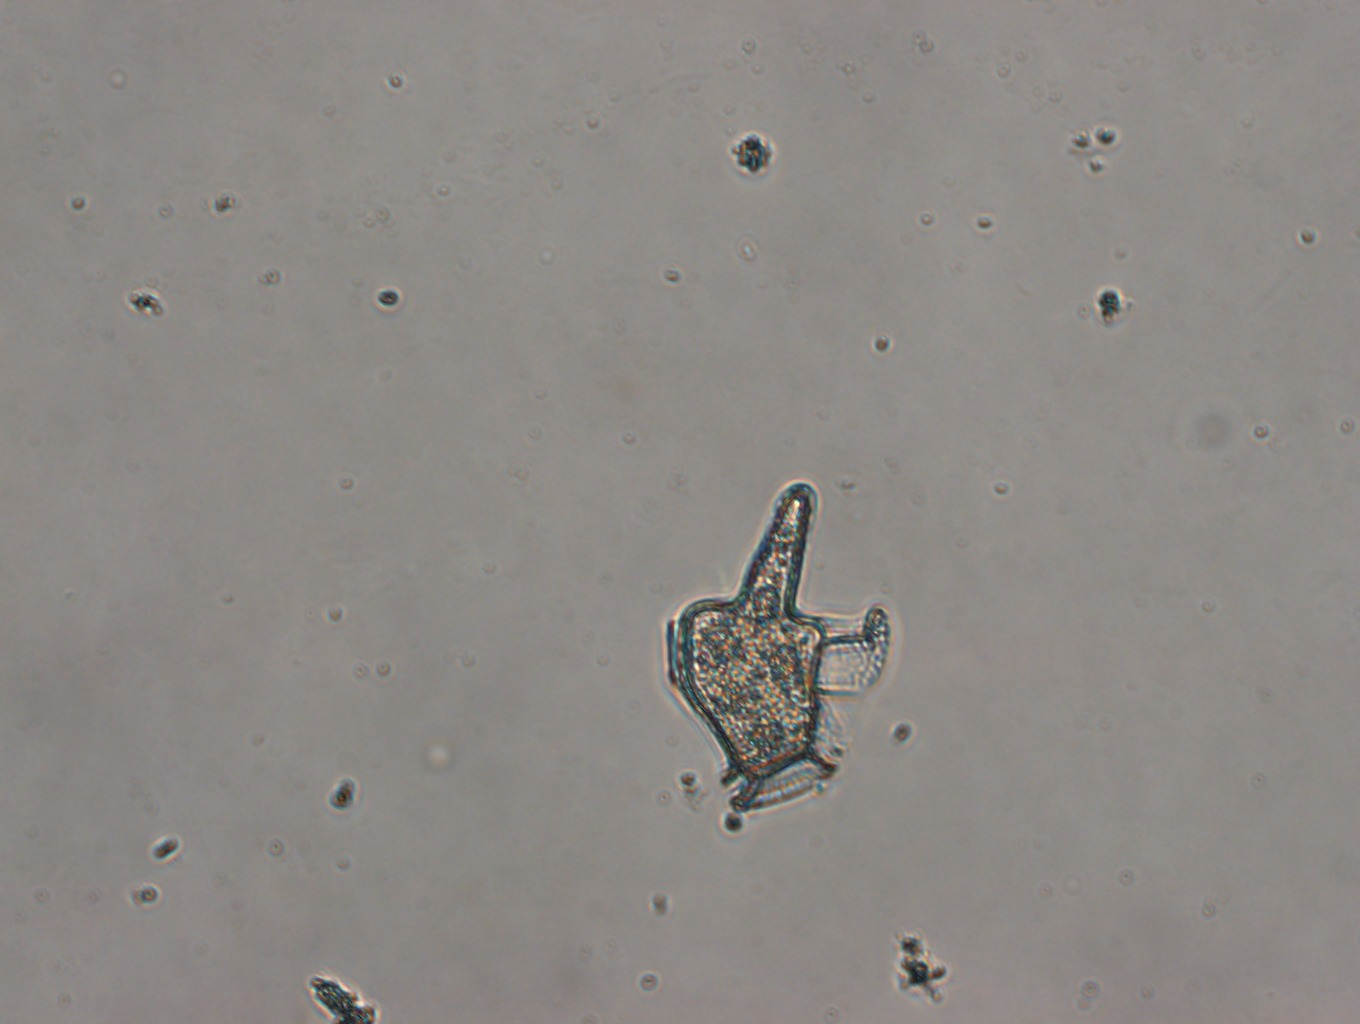dinophysis caudata: (661, 474, 894, 819)
